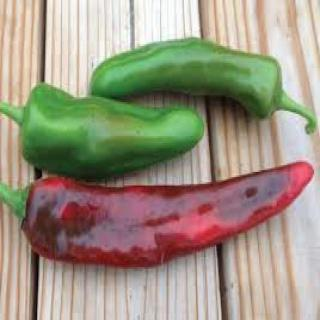Cabai Hijau: (88, 38, 317, 135), (1, 84, 206, 183)
Cabai Merah: (1, 160, 315, 269)
